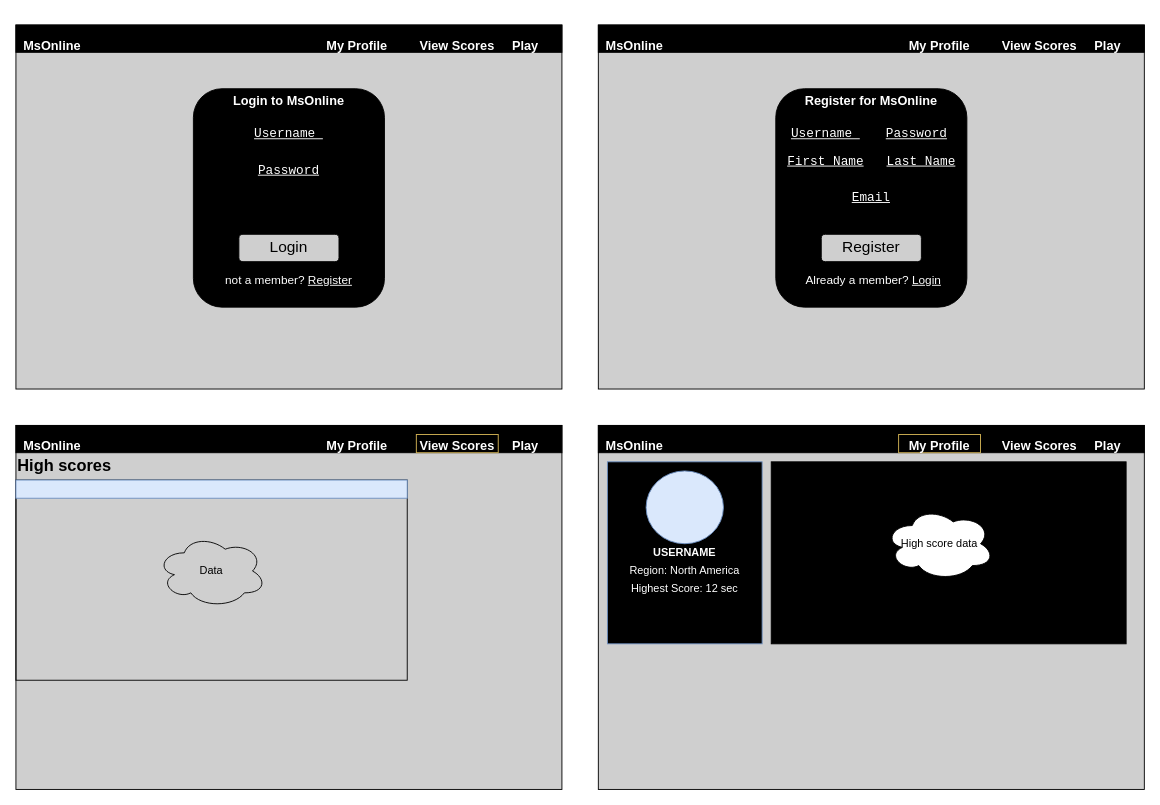
Image size: 1160x805. Some labels were removed from this diagram. The shapes that lost their labels are listed below. From the top down, each one's box as (x1, y1, x2, y2) in pixels, then its label:
(15, 479, 407, 498): Username | Area | Difficulty | Highscore
(645, 470, 723, 544): Photo
